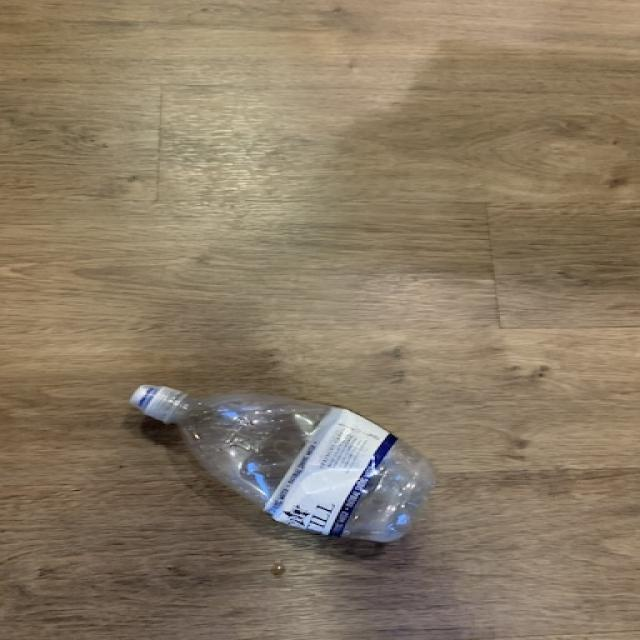litter: (130, 384, 437, 544)
